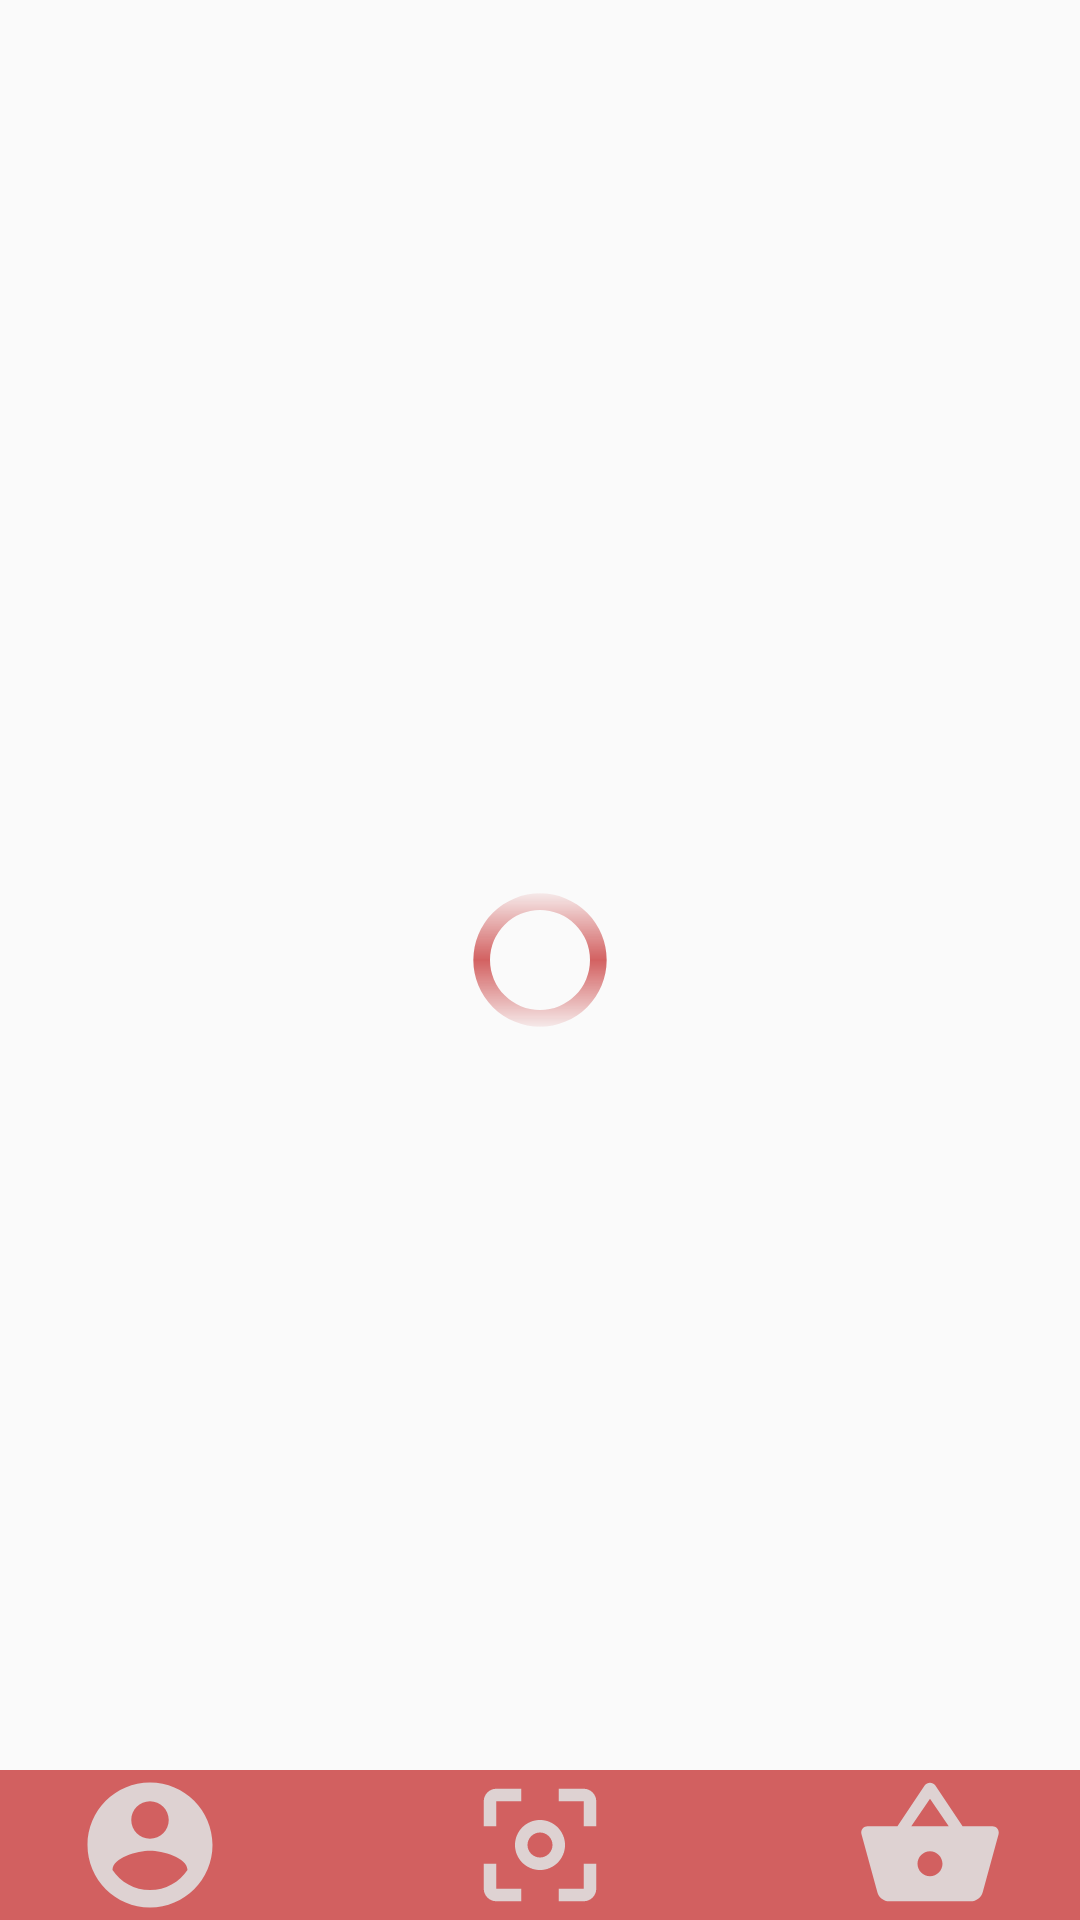

Screen size 1080x1920. Icon name, then its center in pixels as (x,y):
account circle: (150,1845)
center focus weak: (540,1845)
shopping basket: (930,1842)
